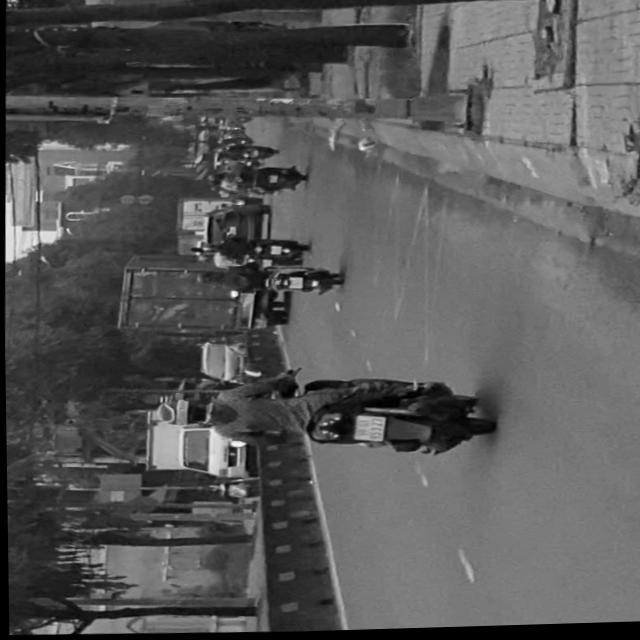helmet: (153, 397, 209, 430)
licenseplate: (150, 370, 492, 466)
nohelmet: (351, 417, 382, 443)
